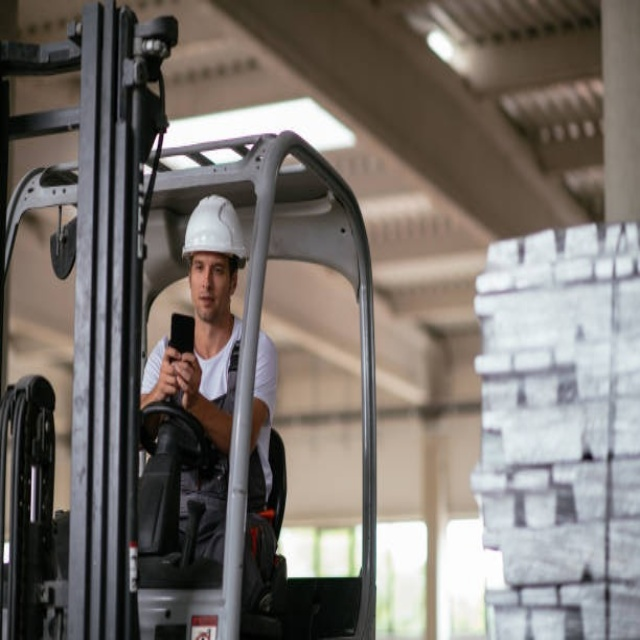Sin_gafas: (192, 253, 229, 279)
Sin_guantes: (164, 350, 199, 405)
Sin_mascara: (196, 289, 218, 317)
